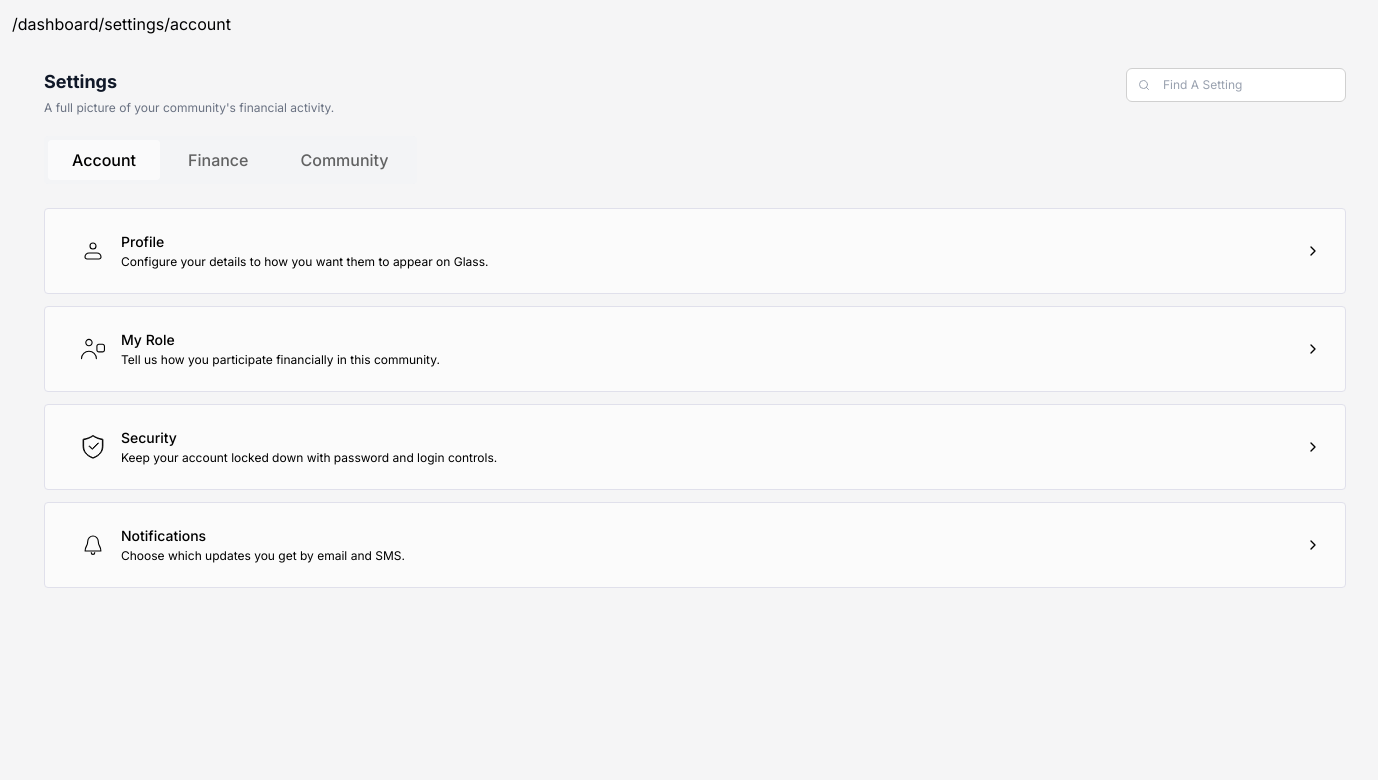
Test case: Settings community context -- community-scoped destinations › threads ?community= on the Community tab itself, keeping it explicit across the whole journey
What coordinates should you click on to do the following:
click the button "Community"
I would click on:
 (345, 160)
Its box is [276, 140, 413, 180].
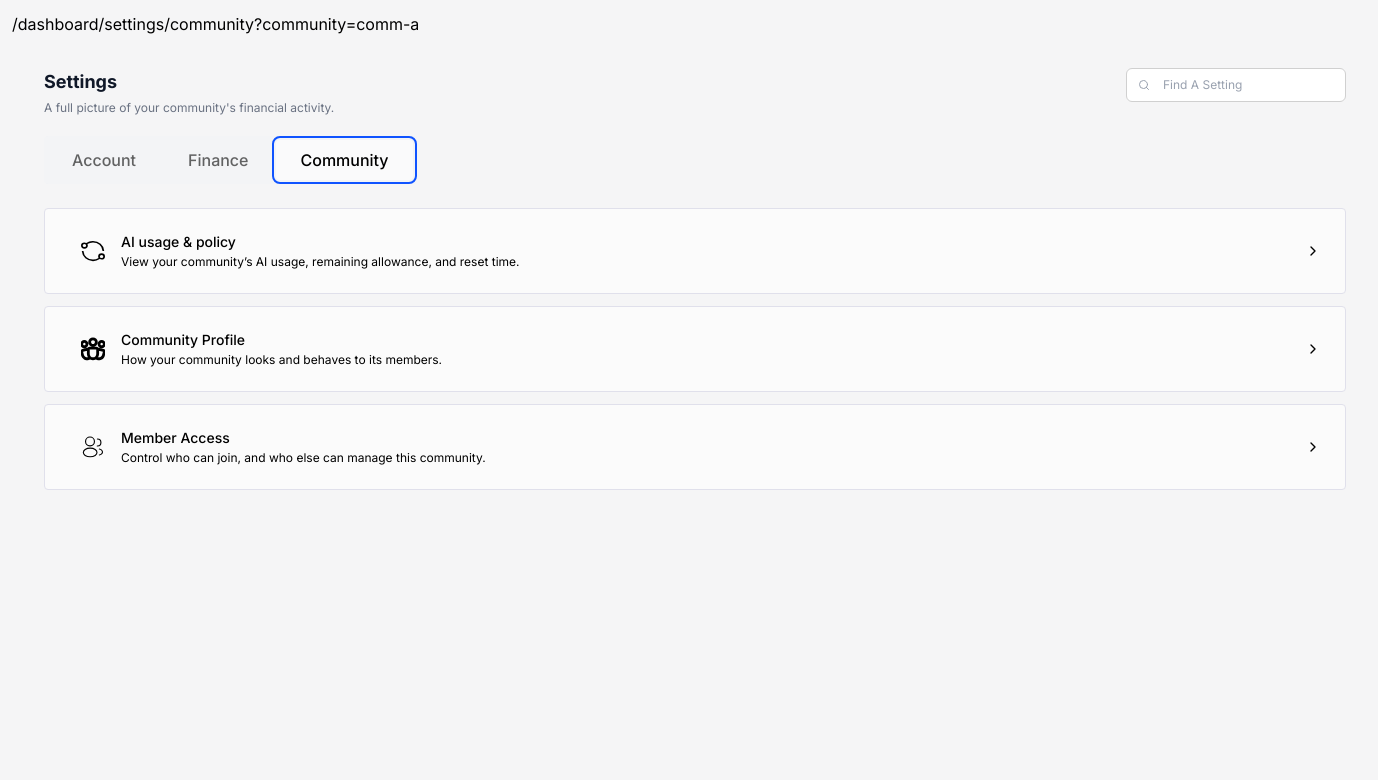
Expected: the text "Community Profile" is shown, [121, 331, 245, 348]
Now the text with test id "location" reads "/dashboard/settings/community?community=comm-a", box [12, 14, 419, 34]
